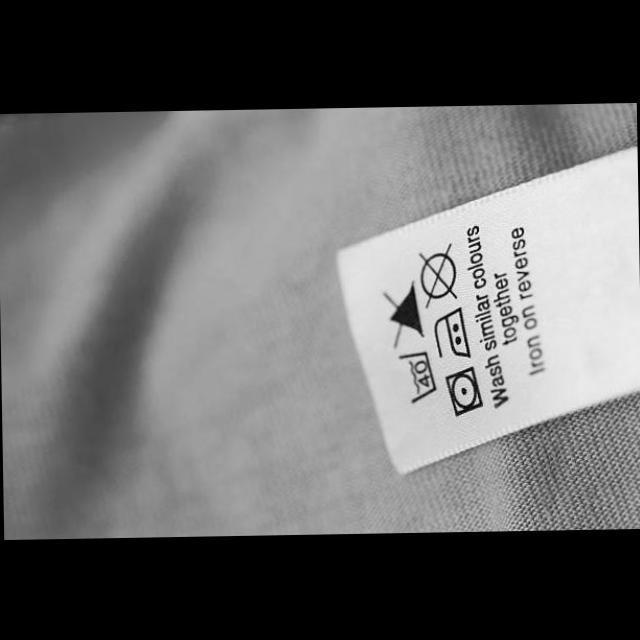40C: (396, 346, 438, 405)
DN_bleach: (378, 274, 428, 351)
DN_dry_clean: (416, 240, 458, 308)
iron_medium: (431, 303, 474, 360)
tumble_dry_low: (444, 361, 484, 416)
